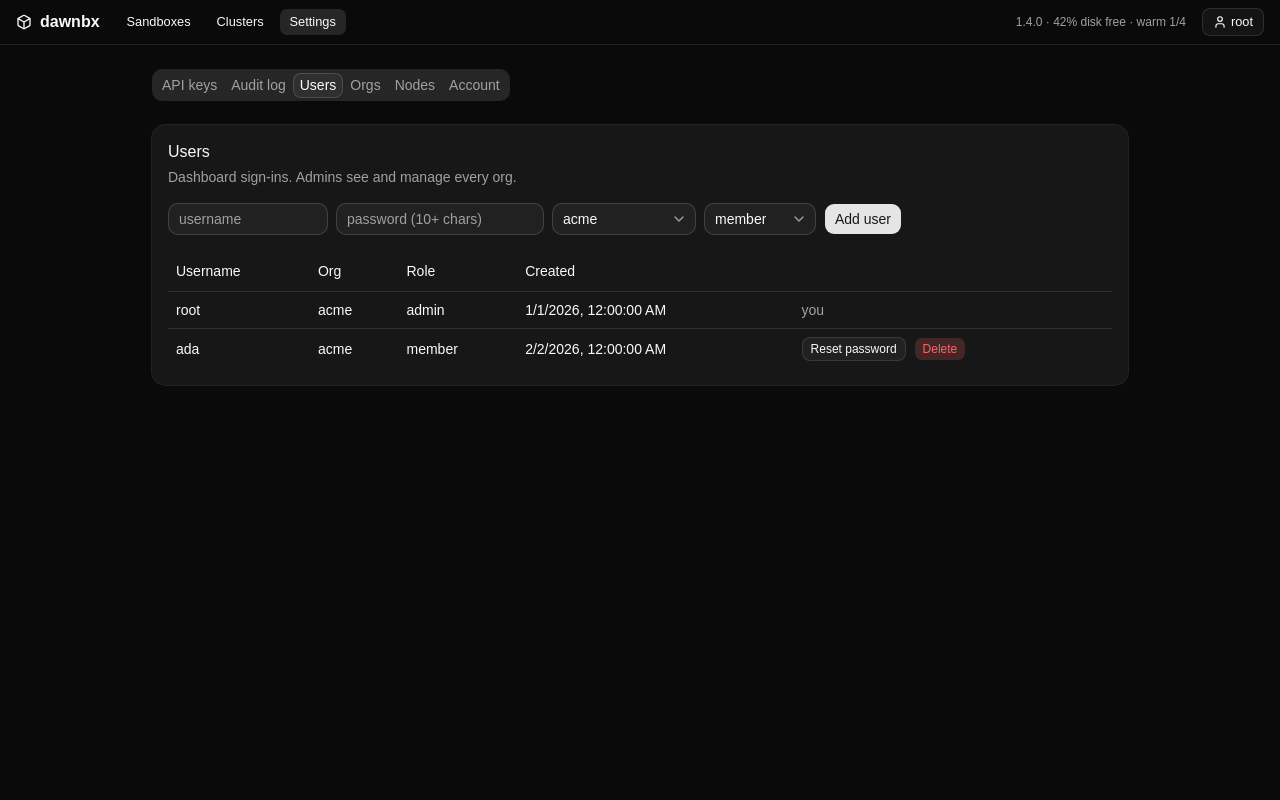
Test case: Users › sets another user's password through the dialog and confirms it with a toast
The width and height of the screenshot is (1280, 800).
// root is you, so only ada's row offers the action.
Click the button "Reset password" at (854, 348), box x1=802 y1=336 x2=906 y2=360
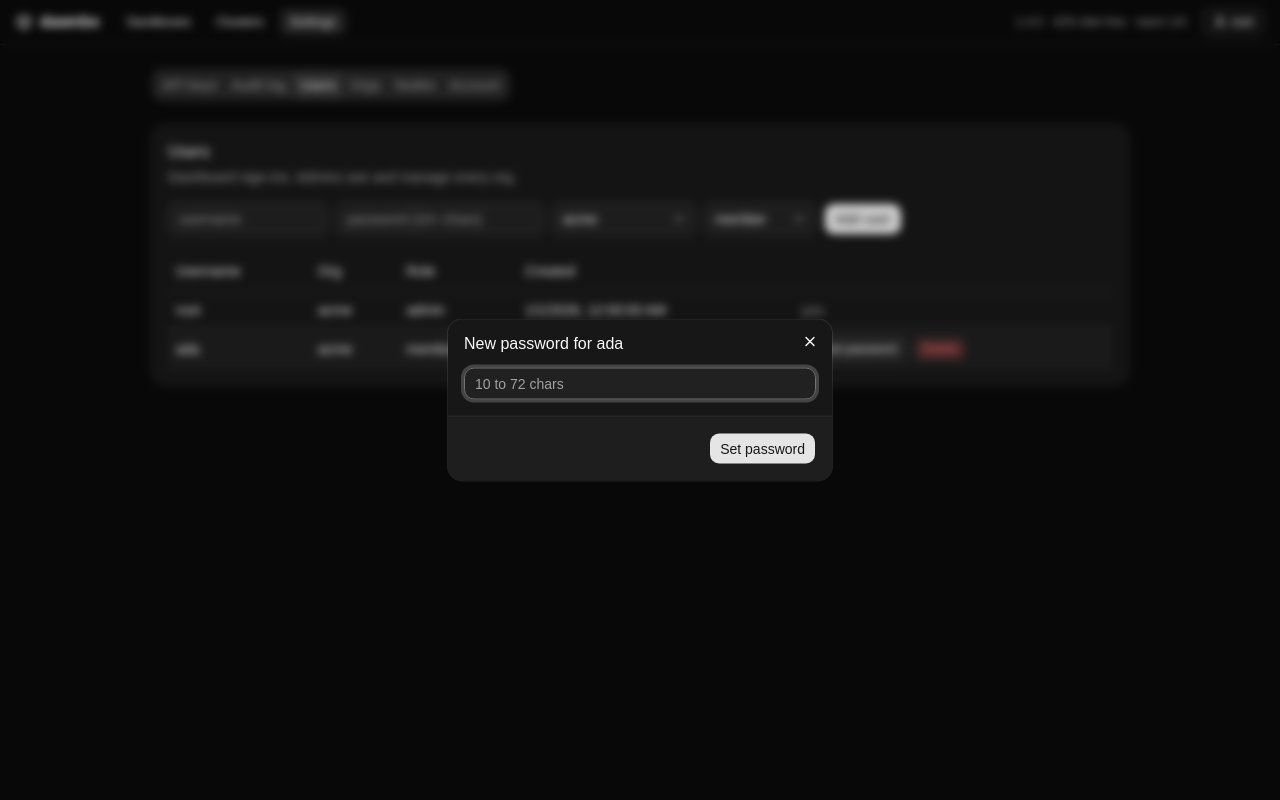
Expected: the heading "New password for ada" is shown, x1=464 y1=334 x2=623 y2=352
Type "brandnewsecret" into the password field with placeholder "10 to 72 chars" at (640, 384), box x1=464 y1=368 x2=816 y2=400
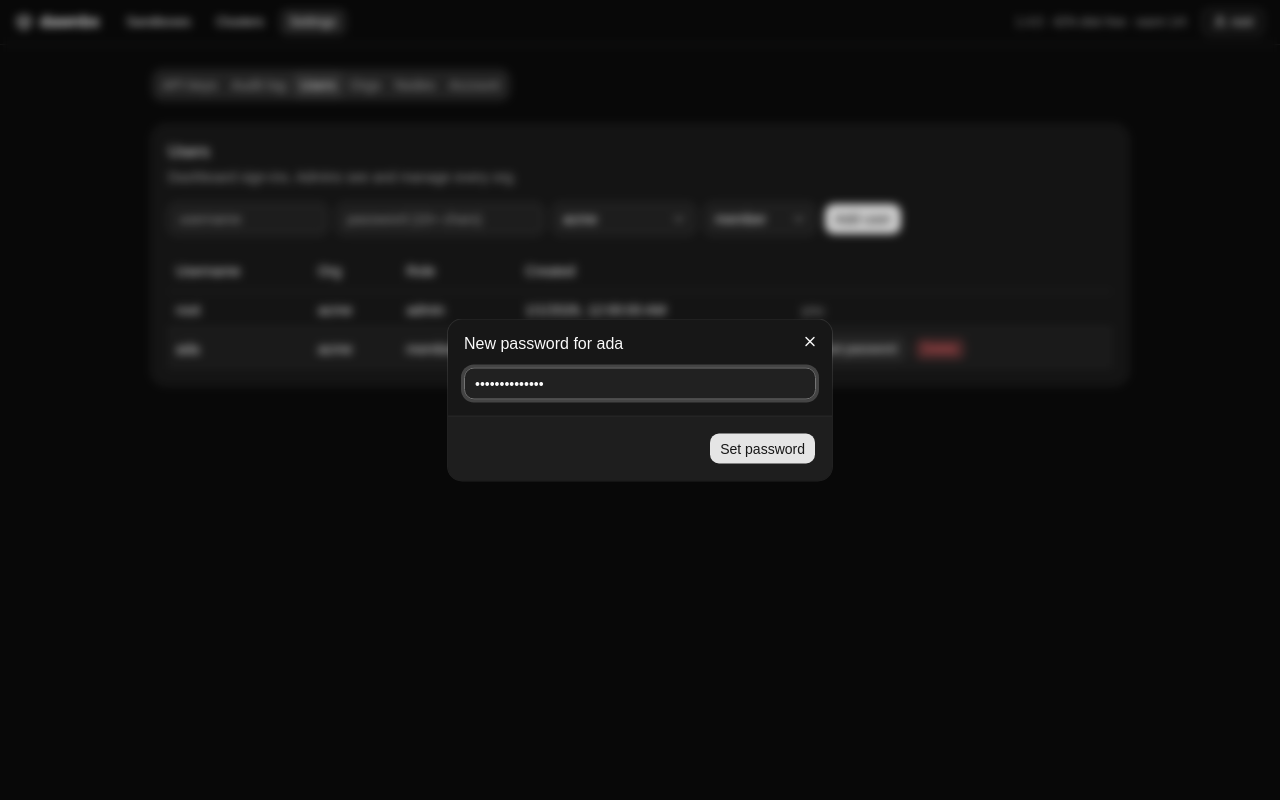
Click the button "Set password" at (763, 448), box x1=709 y1=432 x2=816 y2=464
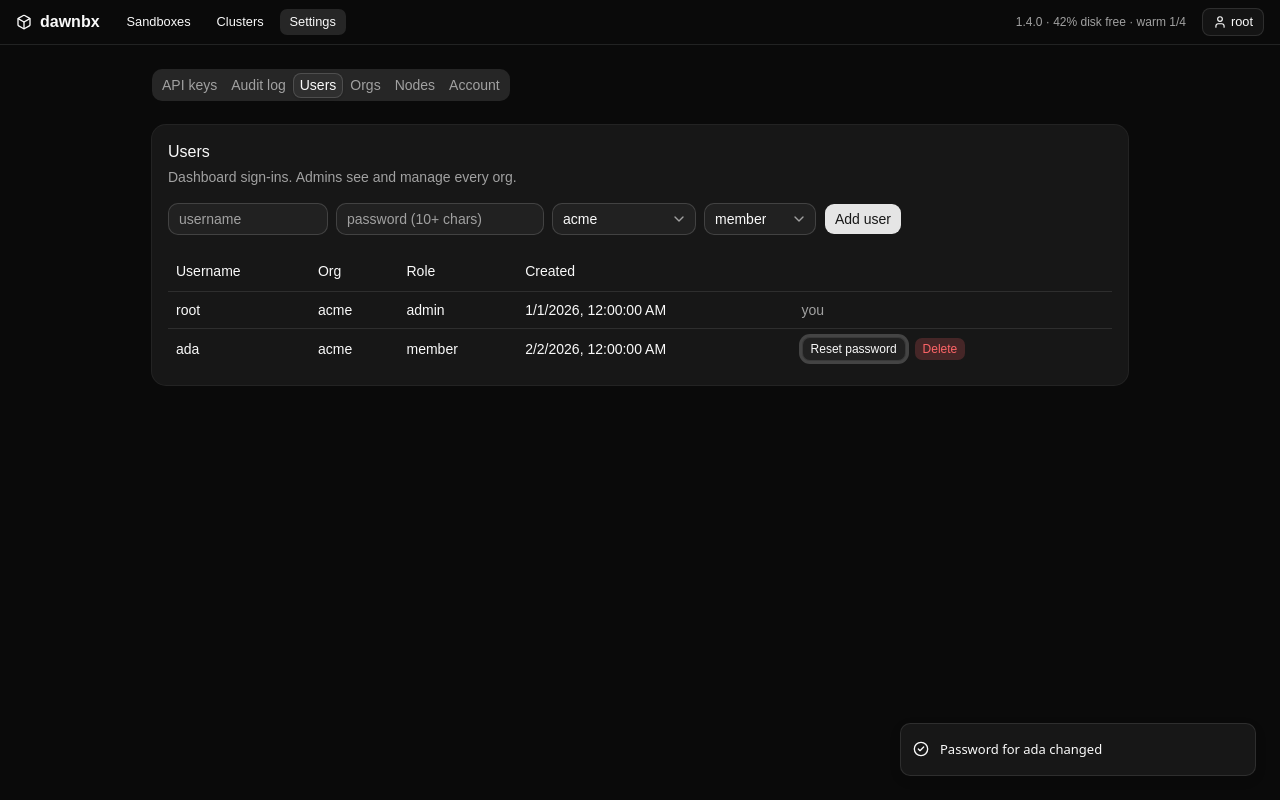
Expected: the text "Password for ada changed" is shown, x1=940 y1=740 x2=1102 y2=759
Expected: the dialog is gone
